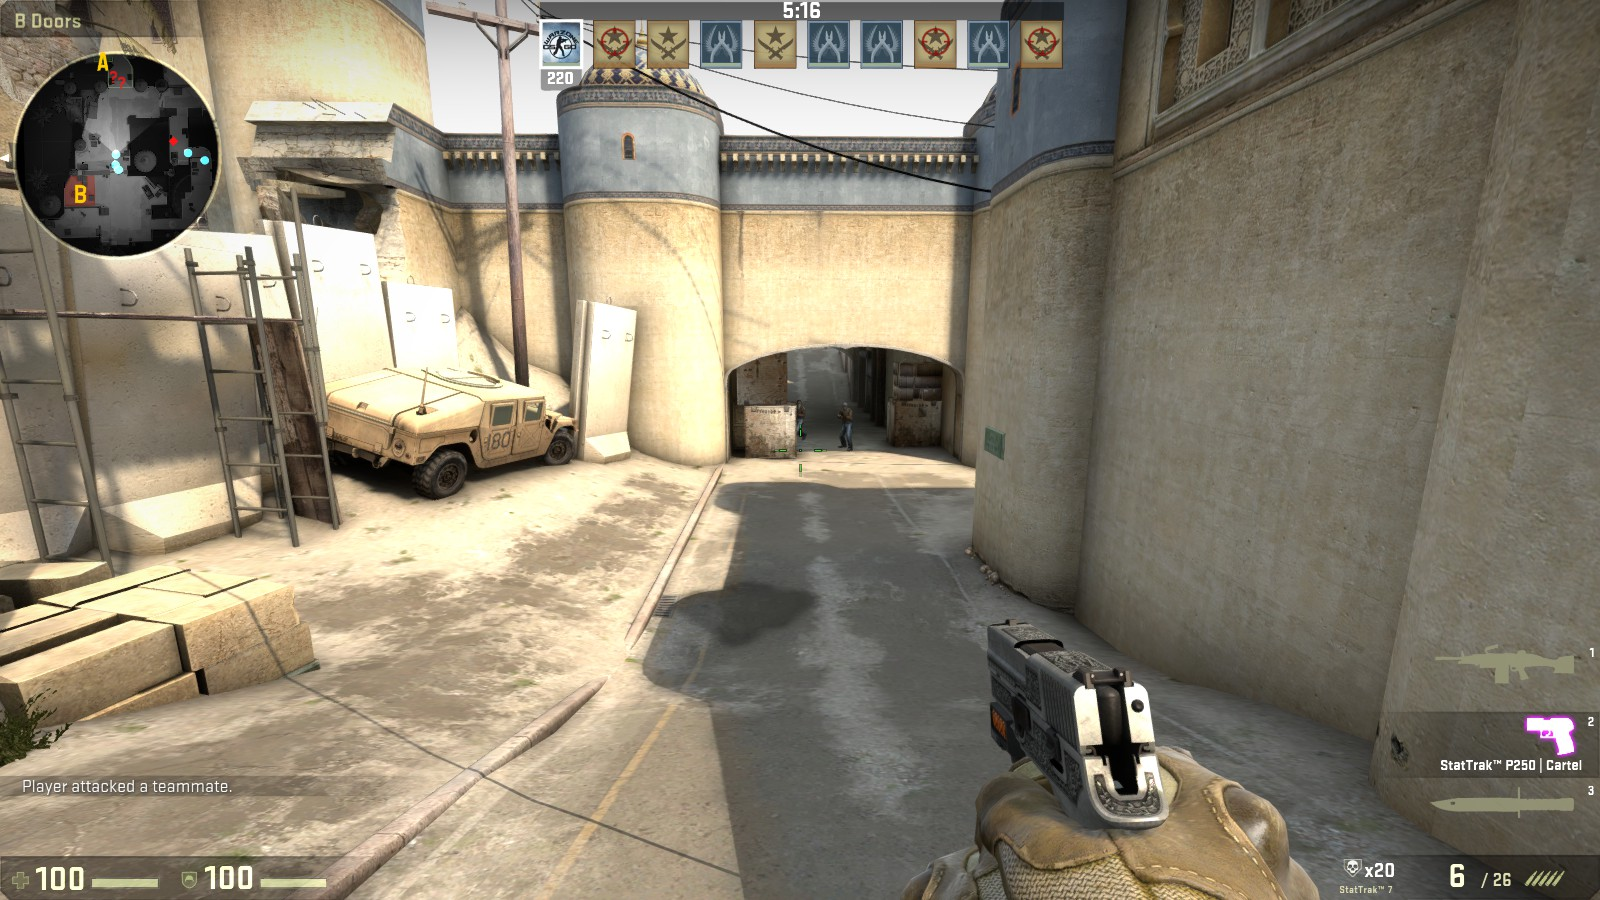t: (838, 402, 854, 451), (795, 399, 807, 438)
th: (841, 402, 849, 411), (796, 399, 804, 408)
